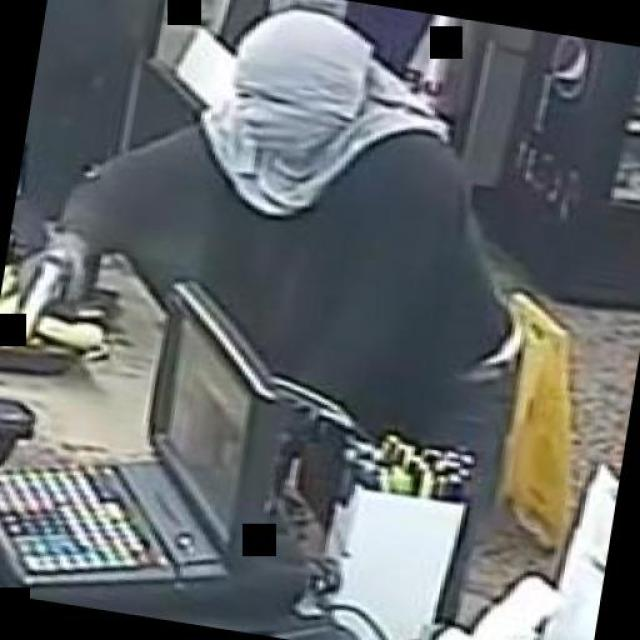gun: (0, 234, 95, 350)
